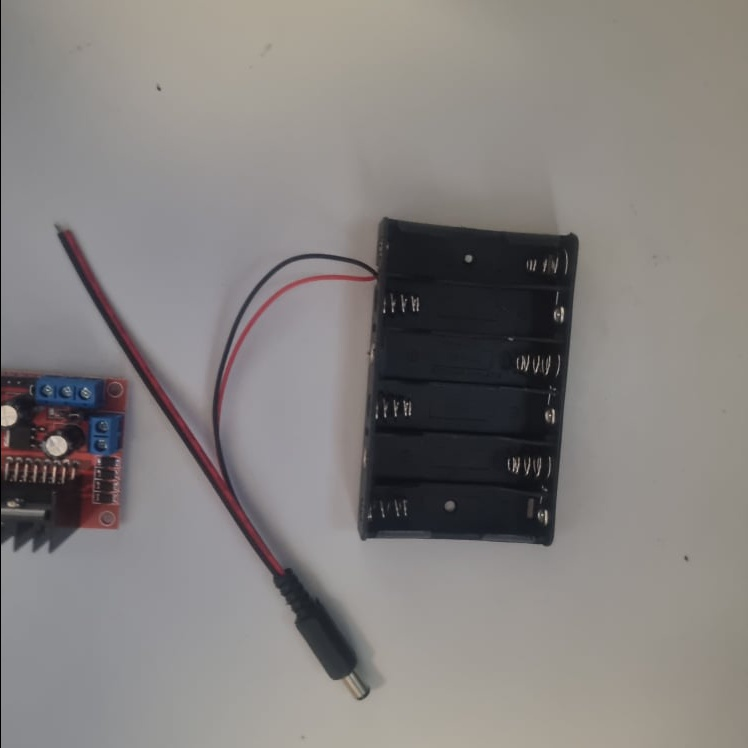BATTERY BOX: (359, 215, 579, 546)
MOTOR: (0, 373, 131, 555)
